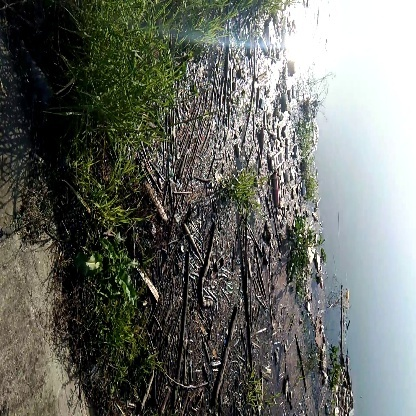branch: (236, 235, 264, 365)
